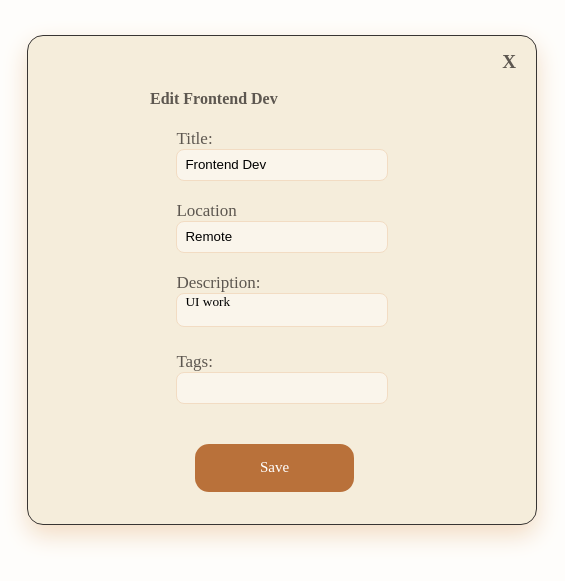
block submit and show error, validation fails
The width and height of the screenshot is (565, 581).
Step 1. Click the button "Save" → (274, 468), box 195,444 -> 354,492
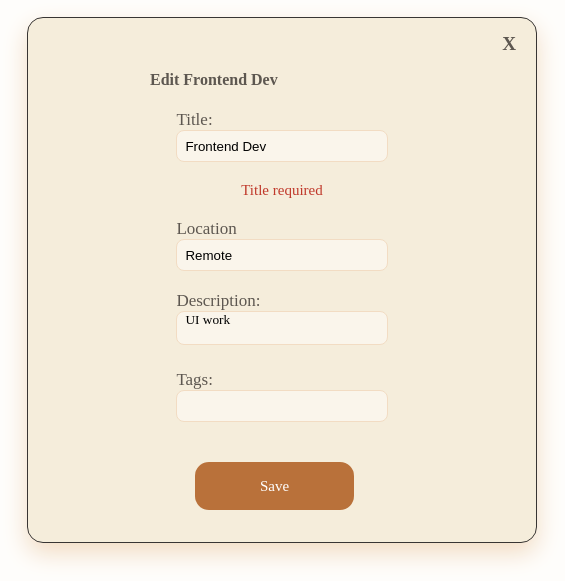
Result: the text "Title required" is shown at 241,182 -> 323,199
